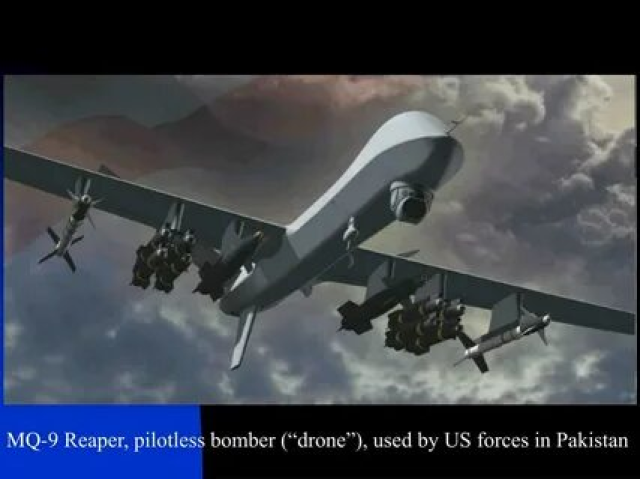military drone: (0, 109, 640, 370)
